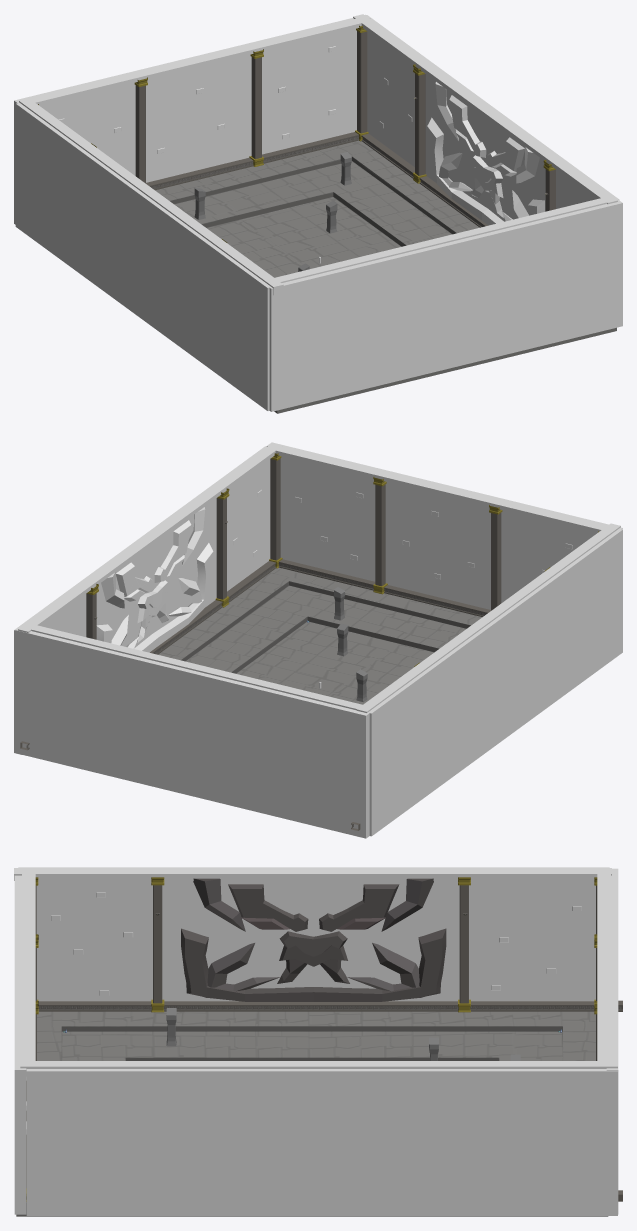
The model's file is boss01.fbx.
The picture shows the model from 3 angles, top to bottom: view 1: azimuth 30°, elevation 25°; view 2: azimuth 150°, elevation 25°; view 3: azimuth 270°, elevation 25°; orthographic projection. The views are drawn at different scales.
Parts seen in each view (by area): view 1: Box045, 003, Box051, Box050, Object003, Object028, 펜스002; view 2: Box045, 003, Box051, Box050, Object003, Object028, 펜스002; view 3: Box045, 003, Box049, Box051, Object028, Object003, 펜스002, Object031.
Part boxes in pixels (x1,y1,x2,y2): Box045: (14, 14, 622, 411); 003: (155, 140, 616, 413); Box051: (19, 14, 617, 295); Box050: (427, 82, 544, 225); Object003: (38, 25, 555, 242); Object028: (146, 132, 487, 227); 펜스002: (194, 152, 351, 271); Box045: (14, 442, 622, 838); 003: (158, 567, 482, 704); Box051: (18, 443, 620, 712); Box050: (96, 507, 213, 652); Object003: (86, 453, 598, 666); Object028: (20, 559, 490, 830); 펜스002: (334, 587, 367, 702); Box045: (14, 867, 618, 1215); 003: (16, 1011, 608, 1216); Box049: (181, 878, 446, 1001); Box051: (14, 868, 617, 1076); Object028: (26, 1000, 622, 1201); Object003: (26, 877, 597, 1201); 펜스002: (166, 1008, 520, 1060); Object031: (26, 892, 581, 1134).
Size of the model in its own units: 4303 by 1491 by 5446.
